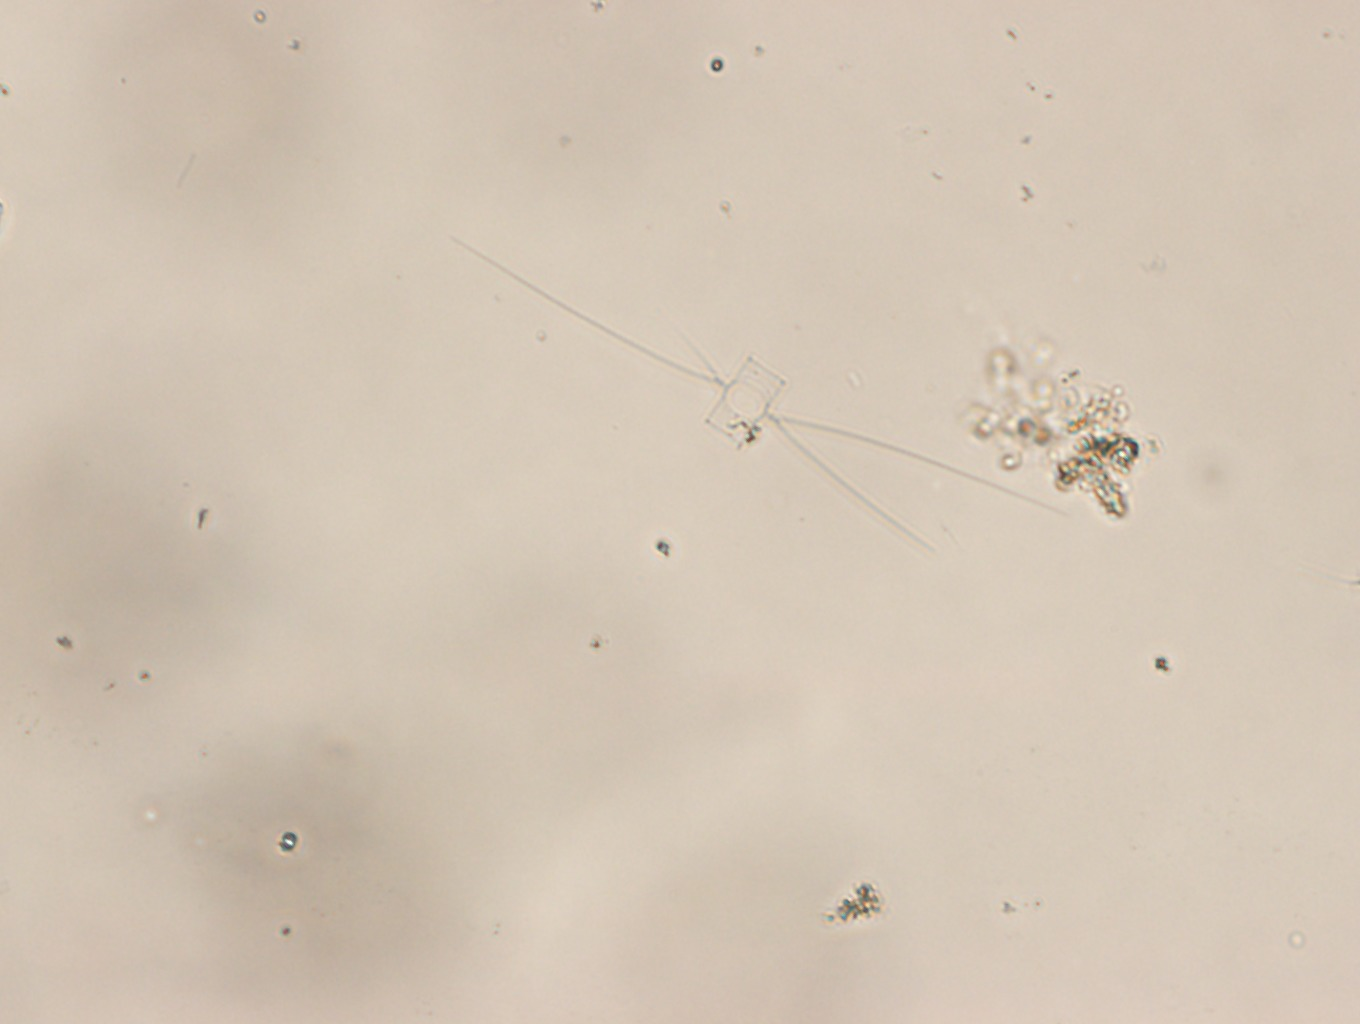chaetoceros: (444, 226, 1068, 554)
